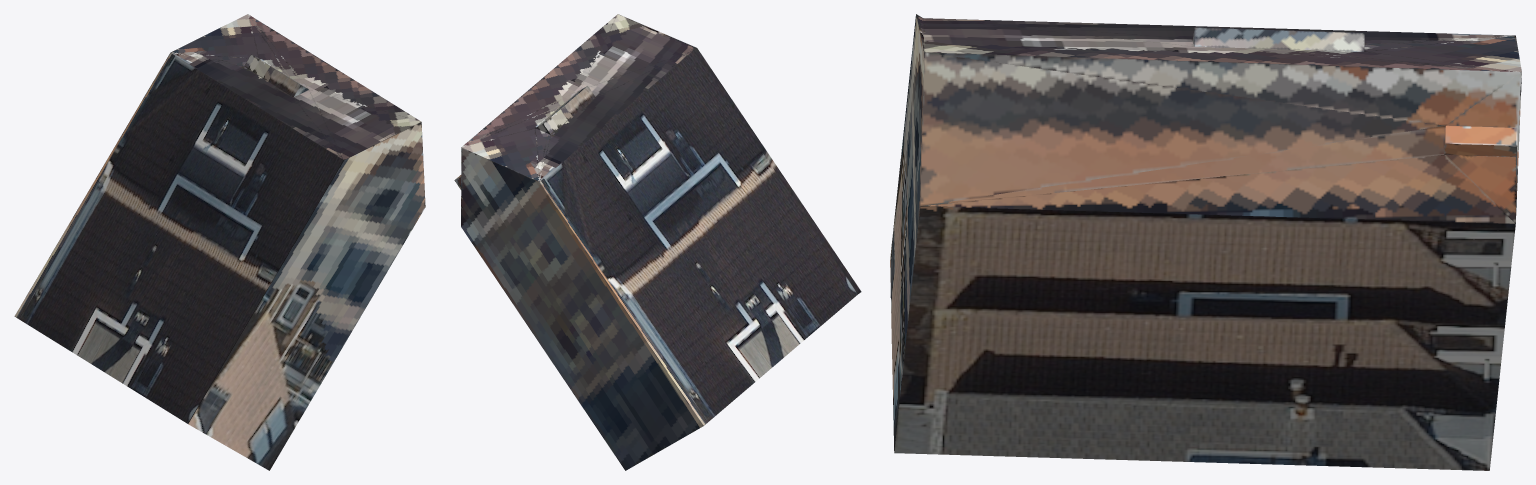
3 views of the same model, side by side, from view 1: azimuth 30°, elevation 25°; view 2: azimuth 150°, elevation 25°; view 3: azimuth 270°, elevation 25° (orthographic). The views are drawn at different scales.
Visible parts, largest first — view 1: BAG_0599100000688731 (×4); view 2: BAG_0599100000688731 (×5); view 3: BAG_0599100000688731 (×7).
Boxes of the visible parts, <box> form: BAG_0599100000688731 (×4): <box>14,14,425,470</box>; BAG_0599100000688731 (×5): <box>461,14,861,470</box>; BAG_0599100000688731 (×7): <box>890,14,1521,470</box>.
Size of the model in its own units: 10.58 by 12.73 by 12.94.
7 materials, 7 textured.
